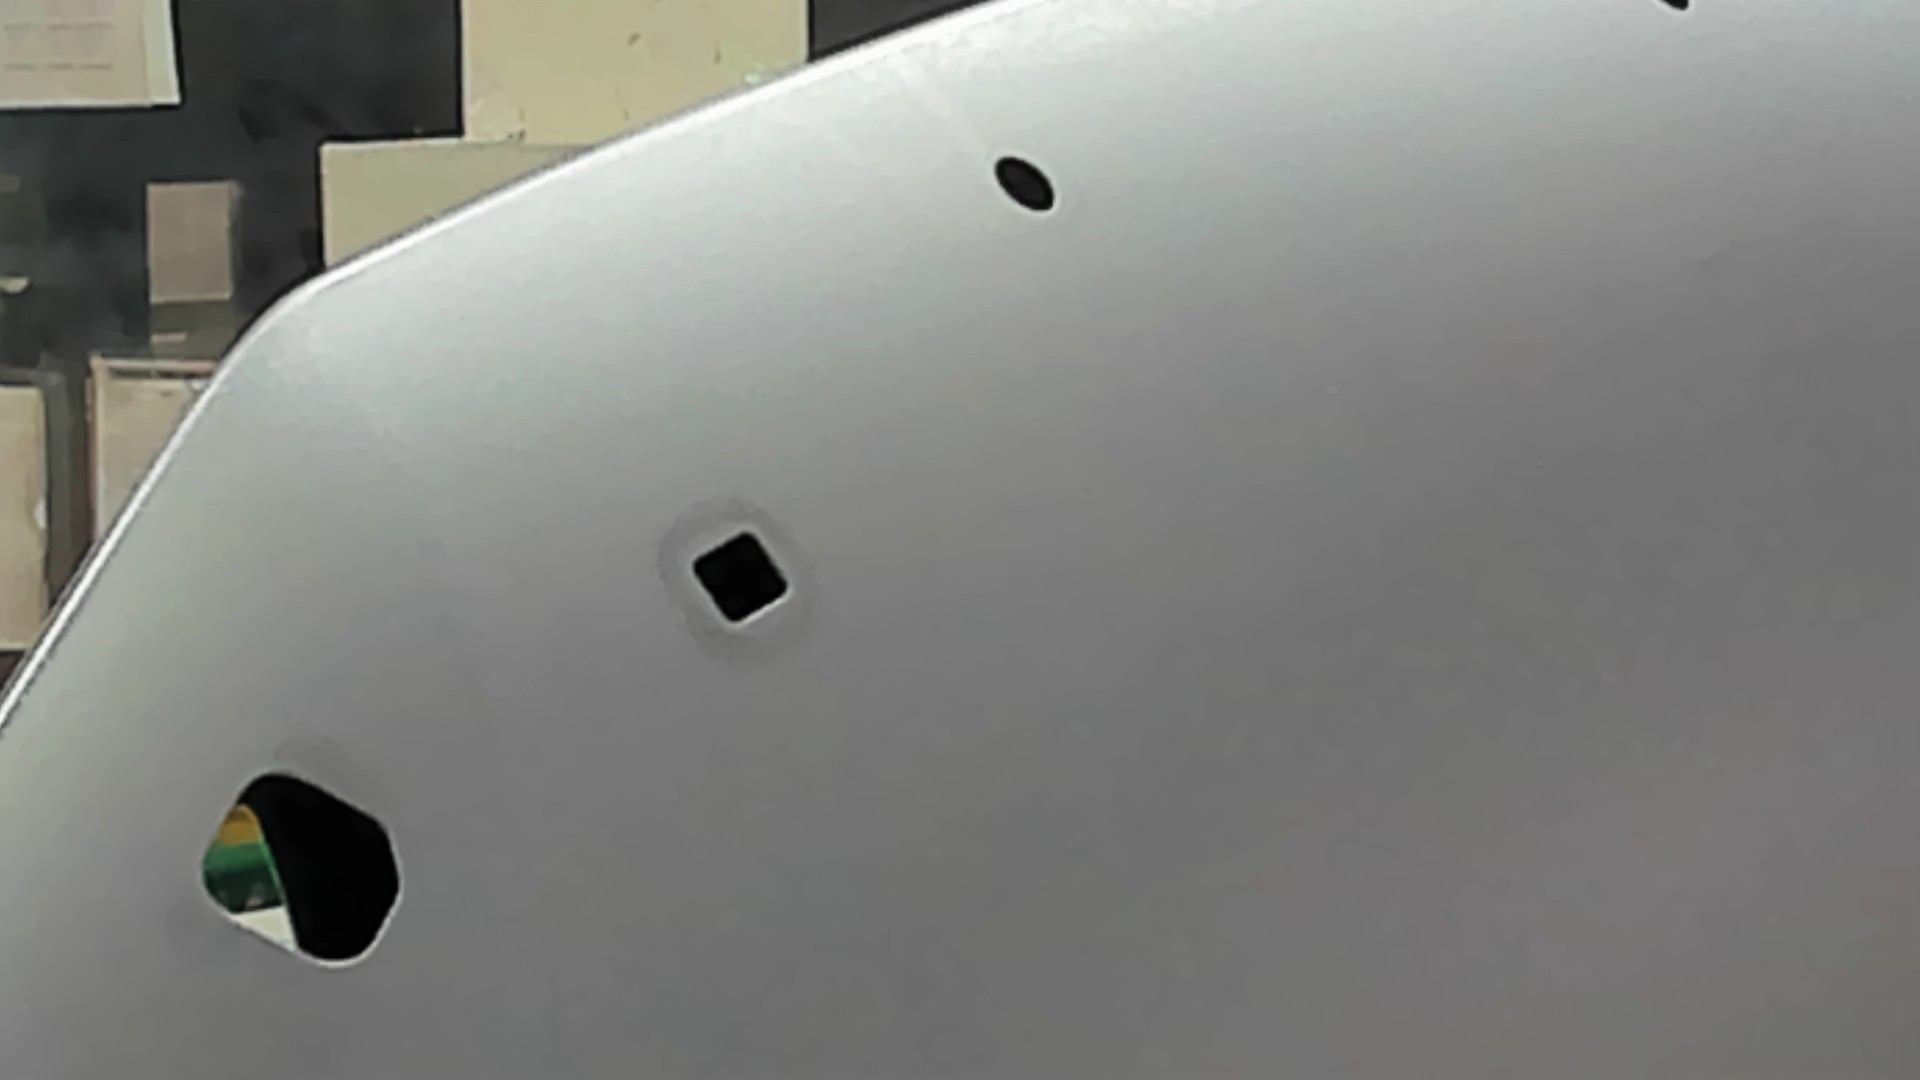chico: (986, 146, 1063, 218), (1655, 1, 1693, 18)
grande: (195, 765, 407, 977)
mediano: (680, 524, 796, 633)
